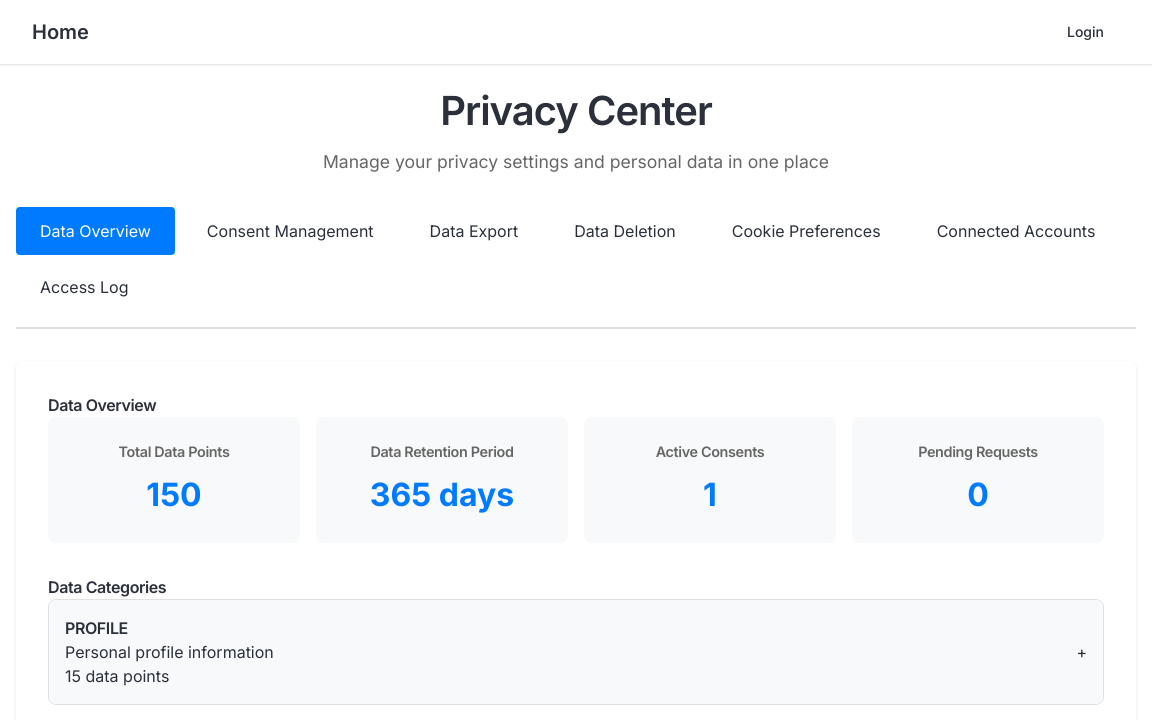
Test case: PrivacyCenter Page › Consent Management Section › should display current consents with status
# Switch to Consent Management tab
Click the button "Consent Management".
click(290, 231)  # box [183,207,398,255]
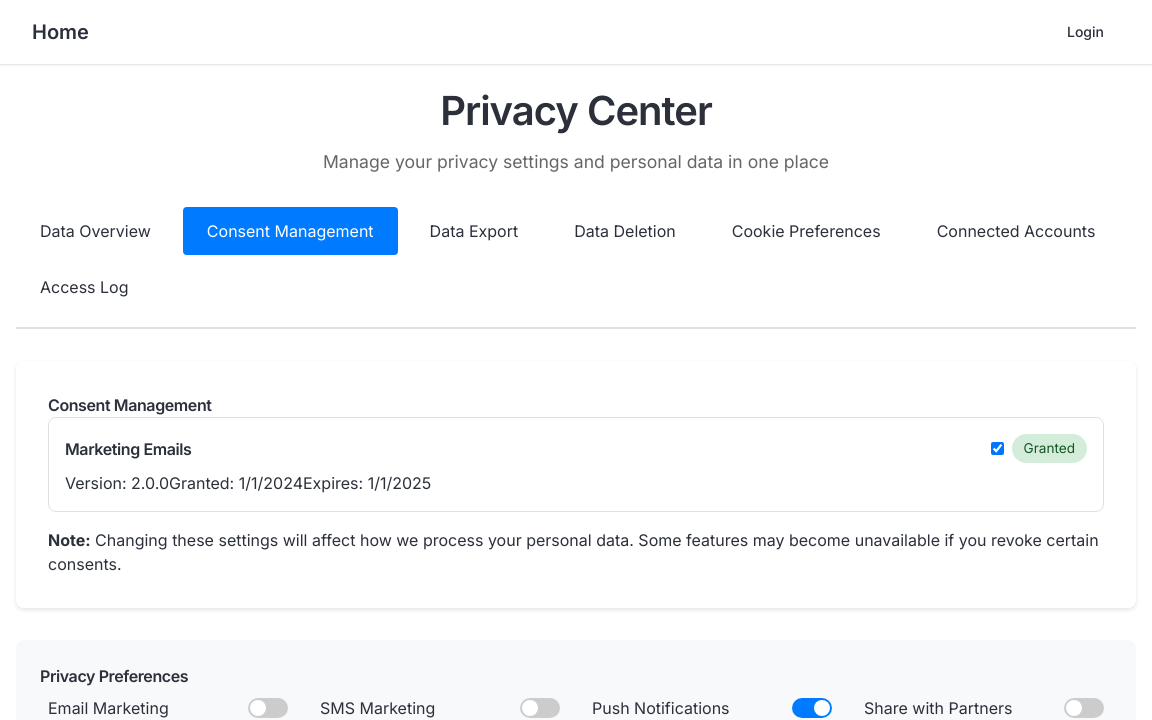
Expected: the heading "Marketing Emails" is shown, [65,437,192,461]
Expected: the text "Granted" is shown, [1012,434,1087,463]
Expected: the text "Version: 2.0.0" is shown, [65,473,169,493]
